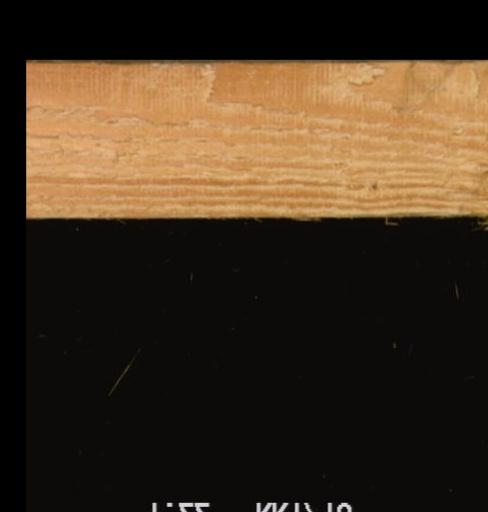small_knot: (365, 176, 386, 195)
